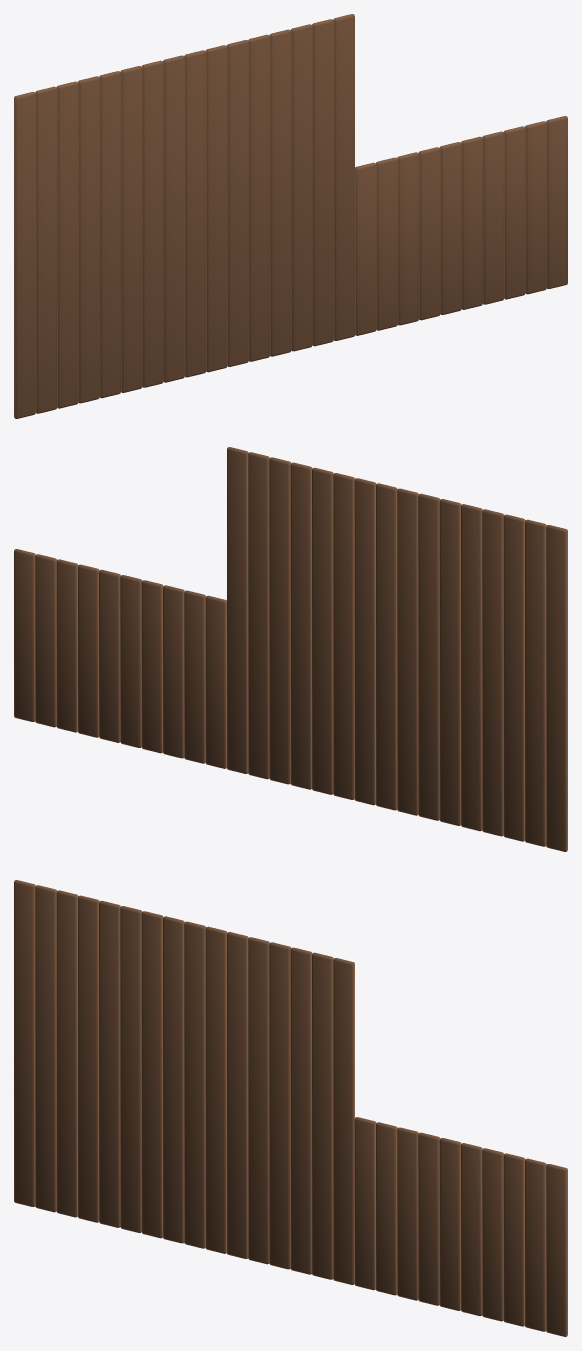
File: FruitSensei_Wall.fbx
The picture shows the model from 3 angles, top to bottom: view 1: azimuth 30°, elevation 25°; view 2: azimuth 150°, elevation 25°; view 3: azimuth 330°, elevation 25°; orthographic projection.
Visible parts, largest first — view 1: Plane.004; view 2: Plane.004; view 3: Plane.004.
Part boxes in pixels (x1,y1,x2,y2): Plane.004: (14,14,567,418); Plane.004: (14,447,567,851); Plane.004: (14,880,567,1336).
Bounding box in the file's own units: 752 × 420 × 6.
